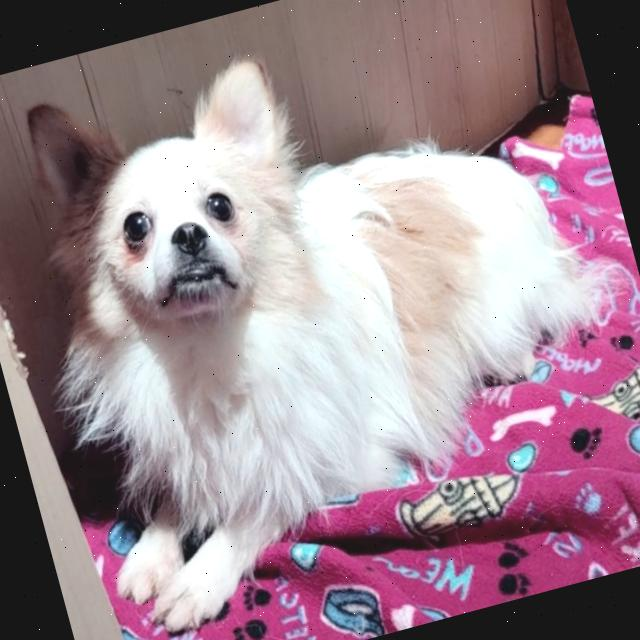pomeranian_dog: (0, 31, 347, 391)
